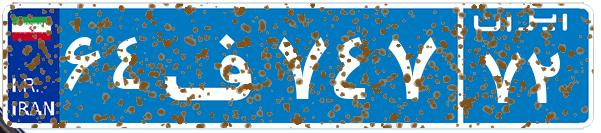2: (525, 38, 570, 115)
4: (330, 28, 385, 110), (110, 28, 158, 105)
6: (57, 26, 110, 107)
7: (385, 28, 445, 110), (273, 28, 330, 110), (475, 38, 525, 113)
ف: (158, 15, 273, 115)
